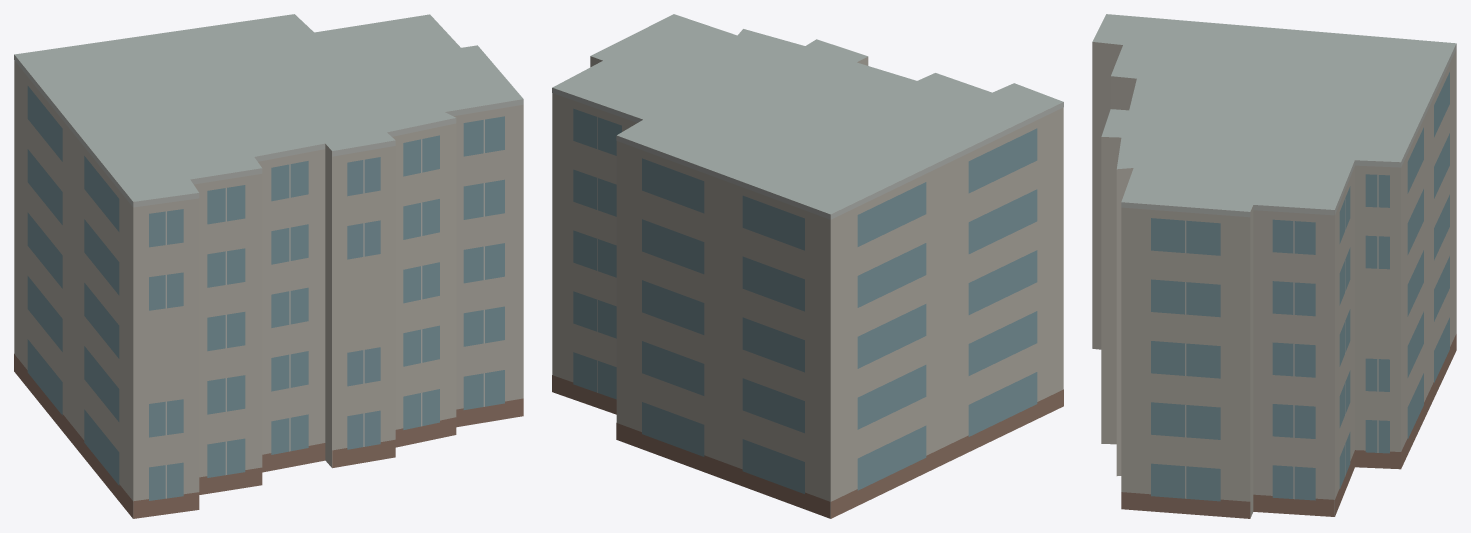
File: survey-upis-32646407.glb
3 views of the same model, side by side, from view 1: azimuth 30°, elevation 25°; view 2: azimuth 150°, elevation 25°; view 3: azimuth 270°, elevation 25° (orthographic). The views are drawn at different scales.
Visible parts, largest first — view 1: survey-upis-32646407.tmp; view 2: survey-upis-32646407.tmp; view 3: survey-upis-32646407.tmp.
Boxes of the visible parts, left/top/right/bottom form: survey-upis-32646407.tmp: left=14, top=14, right=523, bottom=518; survey-upis-32646407.tmp: left=552, top=14, right=1063, bottom=518; survey-upis-32646407.tmp: left=1092, top=14, right=1456, bottom=518.
Size of the model in its own units: 19.23 by 13.9 by 14.96.
